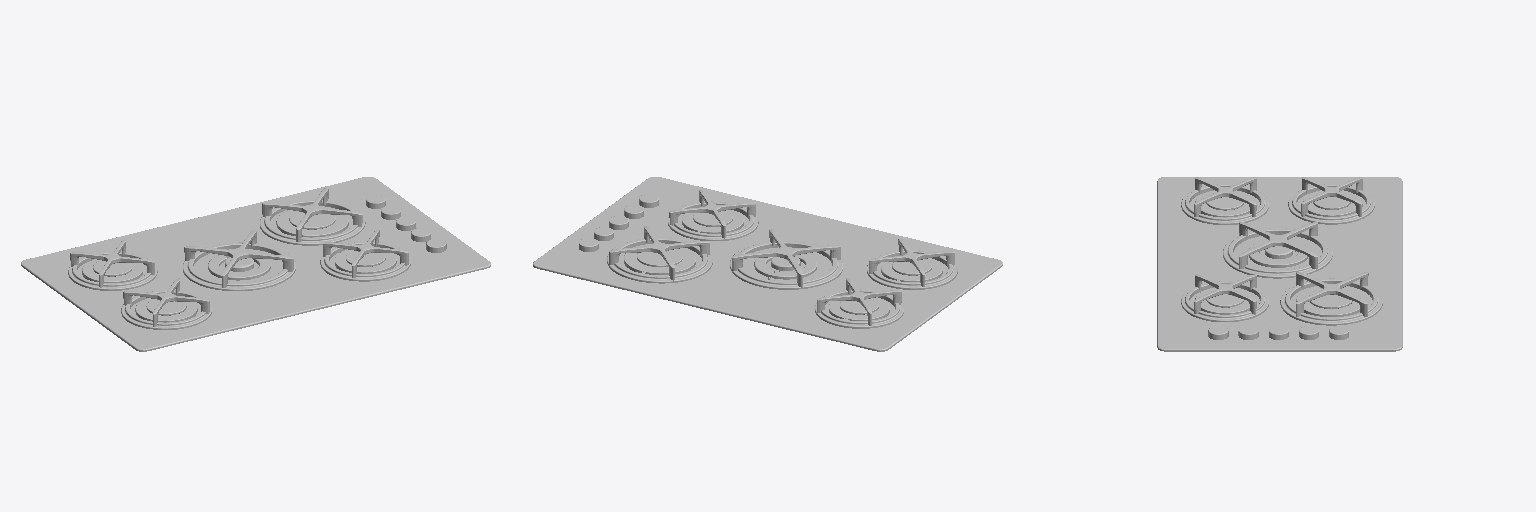
File: stove.obj
The picture shows the model from 3 angles: view 1: azimuth 30°, elevation 25°; view 2: azimuth 150°, elevation 25°; view 3: azimuth 270°, elevation 25°; orthographic projection.
Parts seen in each view (by area): view 1: cook_018_0, cook_018_1, cook_018_2; view 2: cook_018_0, cook_018_1, cook_018_2; view 3: cook_018_0, cook_018_1, cook_018_2.
Boxes of the visible parts, <box> form: cook_018_0: <box>21,177,490,351</box>; cook_018_1: <box>68,188,410,329</box>; cook_018_2: <box>366,195,446,252</box>; cook_018_0: <box>533,177,1002,351</box>; cook_018_1: <box>607,190,957,328</box>; cook_018_2: <box>579,194,658,251</box>; cook_018_0: <box>1157,177,1402,351</box>; cook_018_1: <box>1181,177,1382,325</box>; cook_018_2: <box>1208,326,1348,339</box>.
Bounding box in the file's own units: 8.59 × 0.4278 × 5.15.